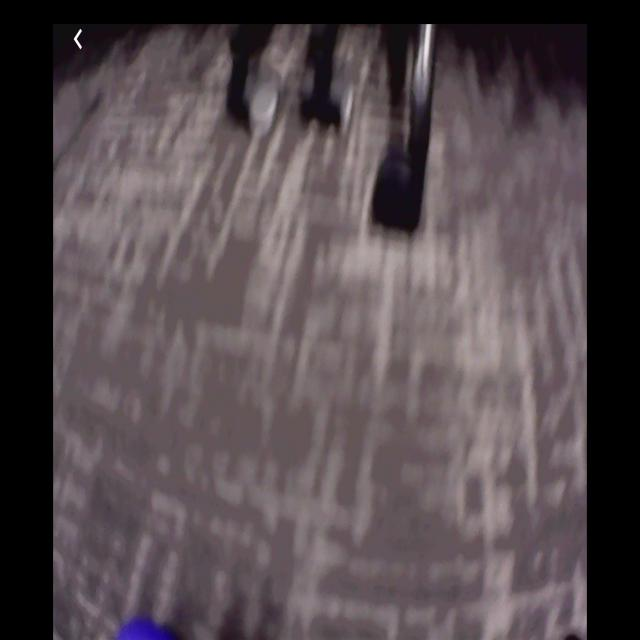ball: (114, 614, 188, 640)
